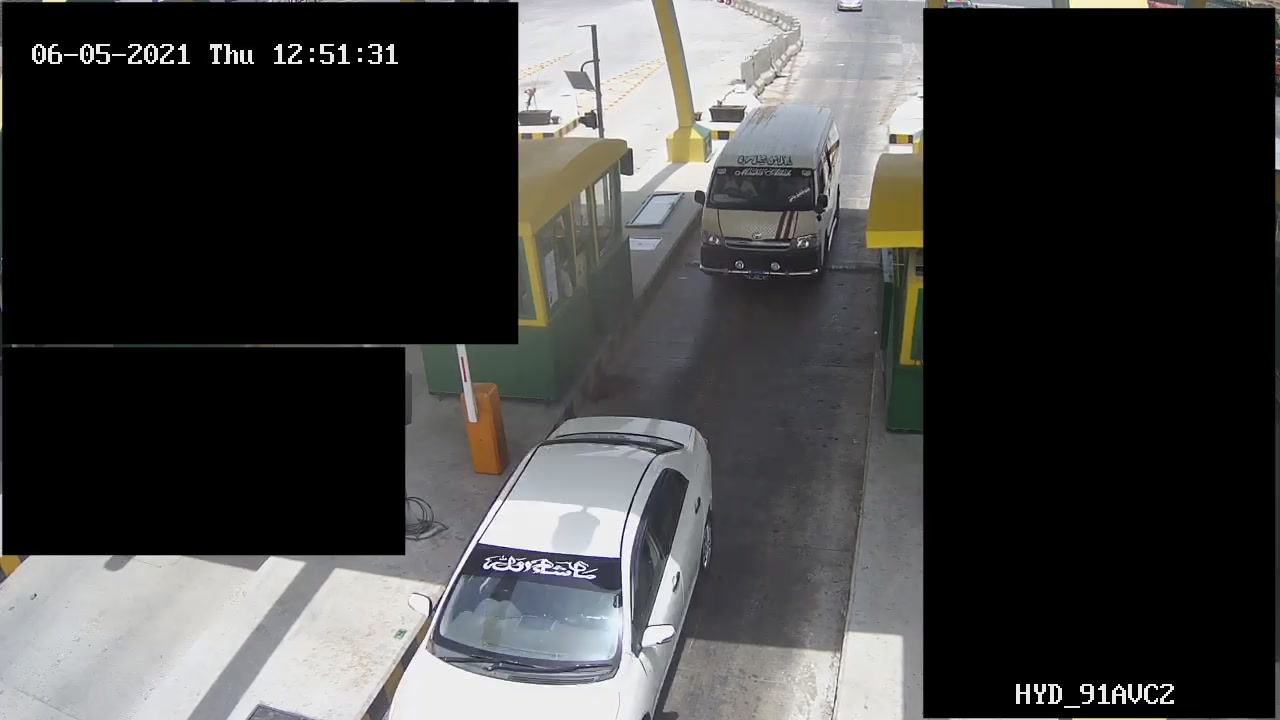F2: (692, 99, 850, 282)
